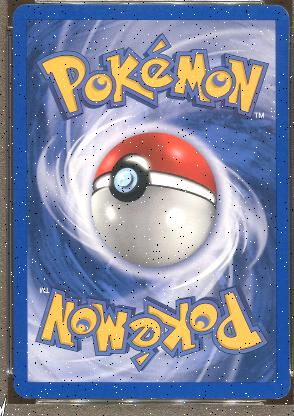Card: (10, 2, 290, 404)
Corner Wear: (272, 387, 288, 399)
Edge Wear: (23, 397, 45, 399), (148, 397, 163, 399)
